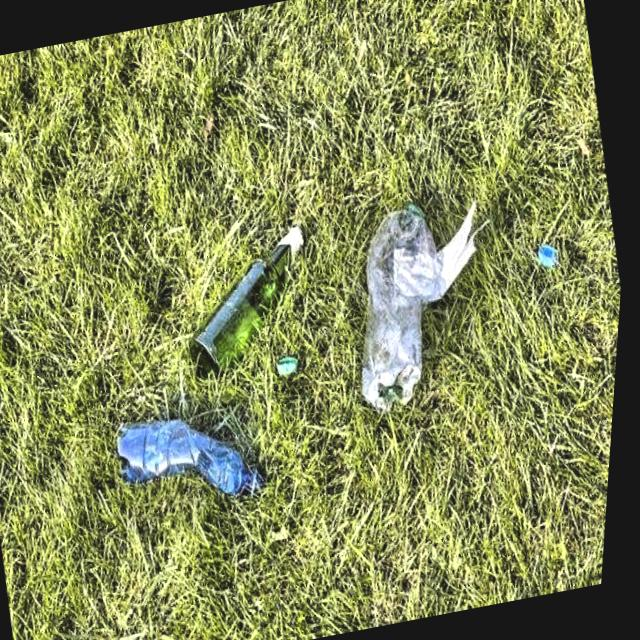Bottles: (312, 160, 493, 445), (84, 378, 298, 558)
